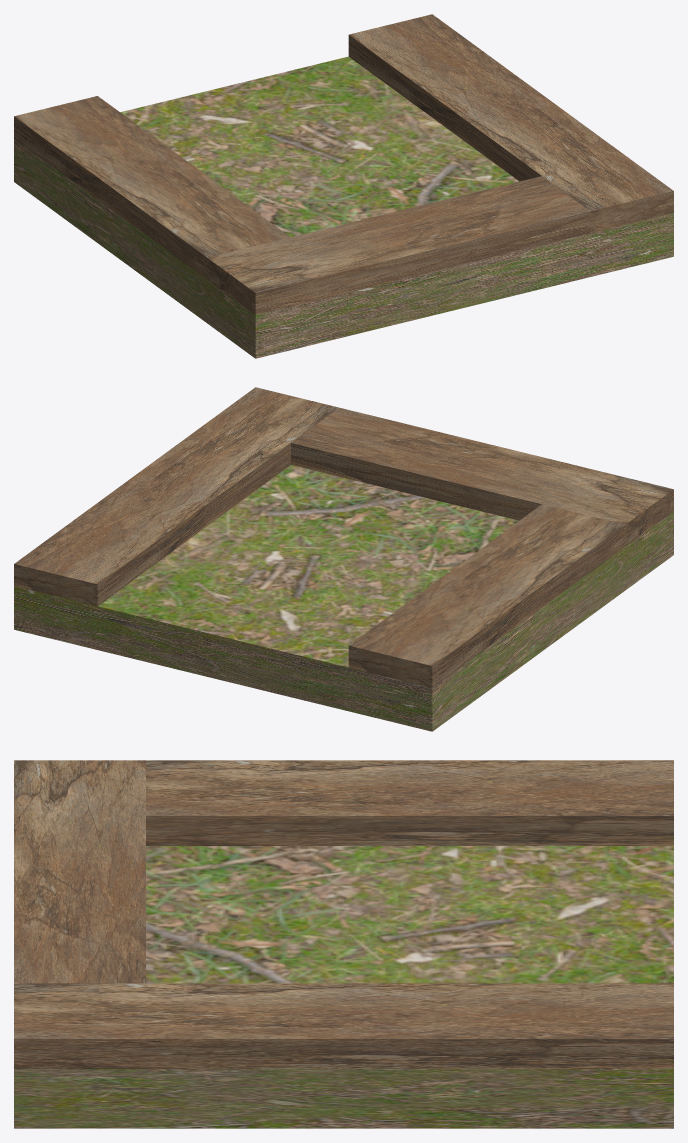
Rendered from End.glb.
3 renders of one model, top to bottom at view 1: azimuth 30°, elevation 25°; view 2: azimuth 150°, elevation 25°; view 3: azimuth 270°, elevation 25°, orthographic. The views are drawn at different scales.
Parts seen in each view (by area): view 1: Cube.010, End; view 2: End, Cube.010; view 3: Cube.010, End.
Boxes of the visible parts, x1=… form: Cube.010: x1=14, y1=14, x2=673, y2=314; End: x1=14, y1=56, x2=673, y2=358; End: x1=14, y1=465, x2=673, y2=731; Cube.010: x1=14, y1=387, x2=673, y2=687; Cube.010: x1=14, y1=760, x2=673, y2=1068; End: x1=14, y1=846, x2=673, y2=1128.
Size of the model in its own units: 1 by 0.15 by 1.
Materials: 2 (2 with a texture image).
